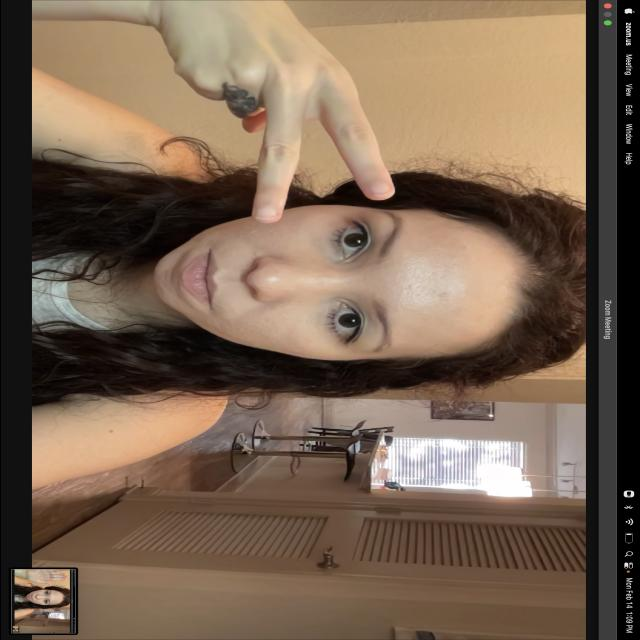Scissors: (146, 0, 392, 224)
